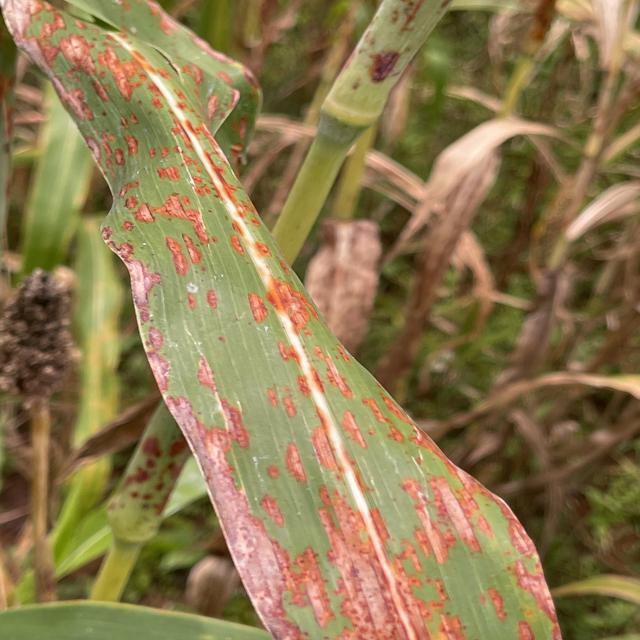millet_rust: (0, 0, 568, 640)
